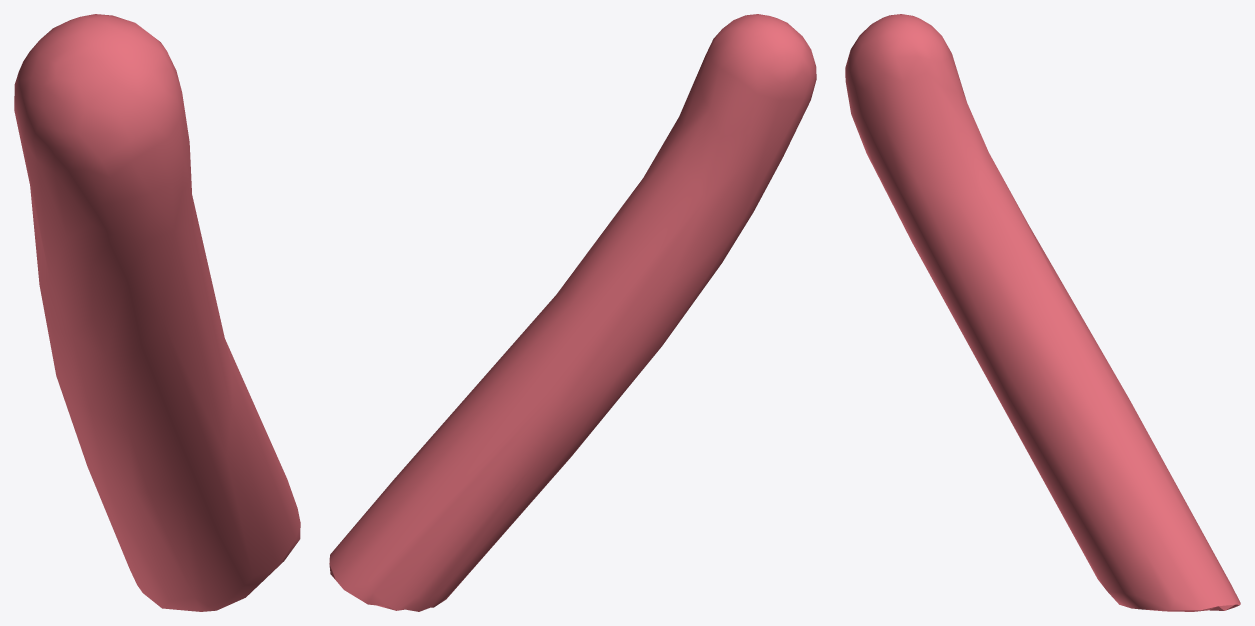
Rendered from fma21388_fj3465.glb.
The picture shows the model from 3 angles, left to right: view 1: azimuth 30°, elevation 25°; view 2: azimuth 150°, elevation 25°; view 3: azimuth 270°, elevation 25°; orthographic projection. The views are drawn at different scales.
Visible parts, largest first — view 1: FMA21388_FJ3465; view 2: FMA21388_FJ3465; view 3: FMA21388_FJ3465.
Part boxes in pixels (x1,y1,x2,y2): FMA21388_FJ3465: (14, 14, 300, 611); FMA21388_FJ3465: (329, 14, 816, 611); FMA21388_FJ3465: (845, 14, 1240, 611).
Size of the model in its own units: 0.0413 by 0.0646 by 0.0462.
